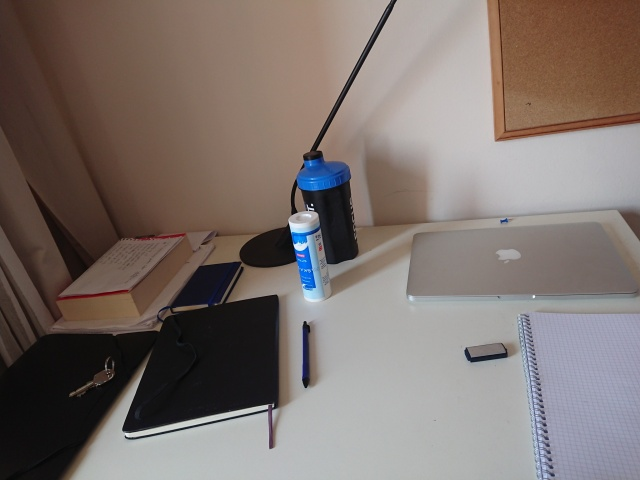Solana Pag Fine Sea Salt 250g: (285, 209, 335, 304)
